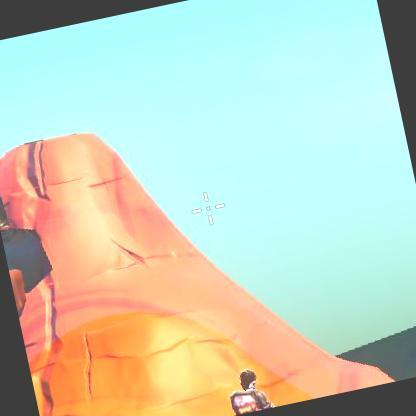person: (228, 369, 276, 414)
